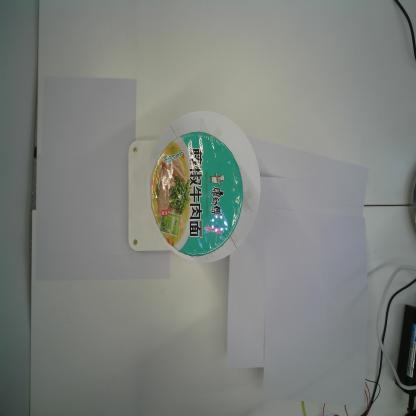Instant Noodles: (150, 130, 244, 257)
